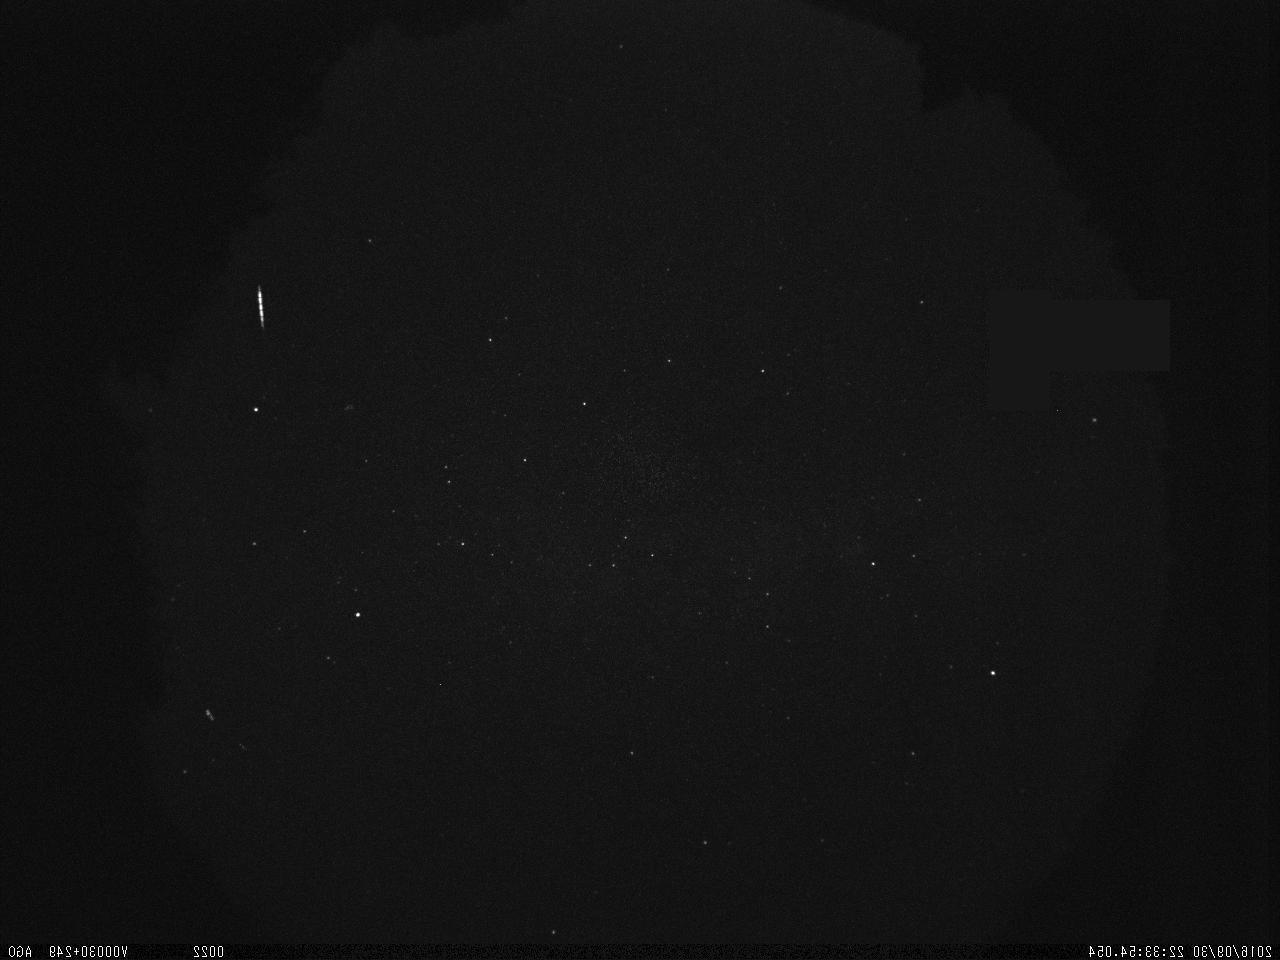meteor: (244, 276, 273, 338)
